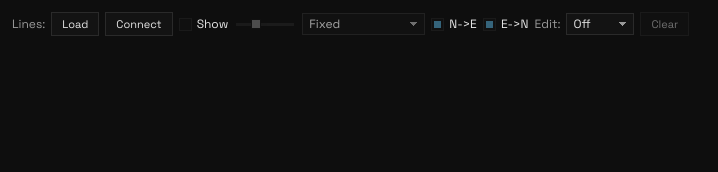
Test case: EdgesToolbar › connects rows in order and exposes line controls
Click the button with aria-label "connect rows" at (139, 24), box [105, 12, 173, 36]
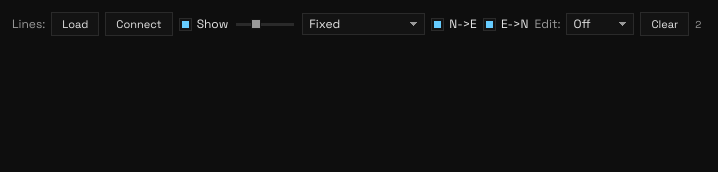
Expected: the checkbox named "show lines" is checked, [179, 18, 192, 30]
Expected: the text "2" is shown, [695, 18, 701, 30]
